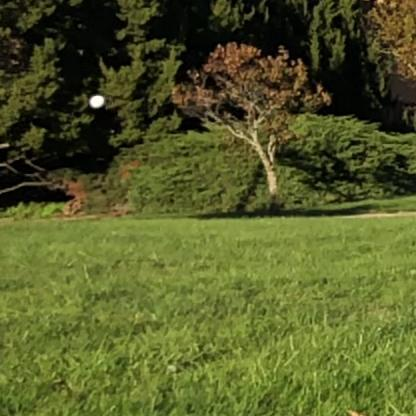golfball: (86, 91, 103, 108)
